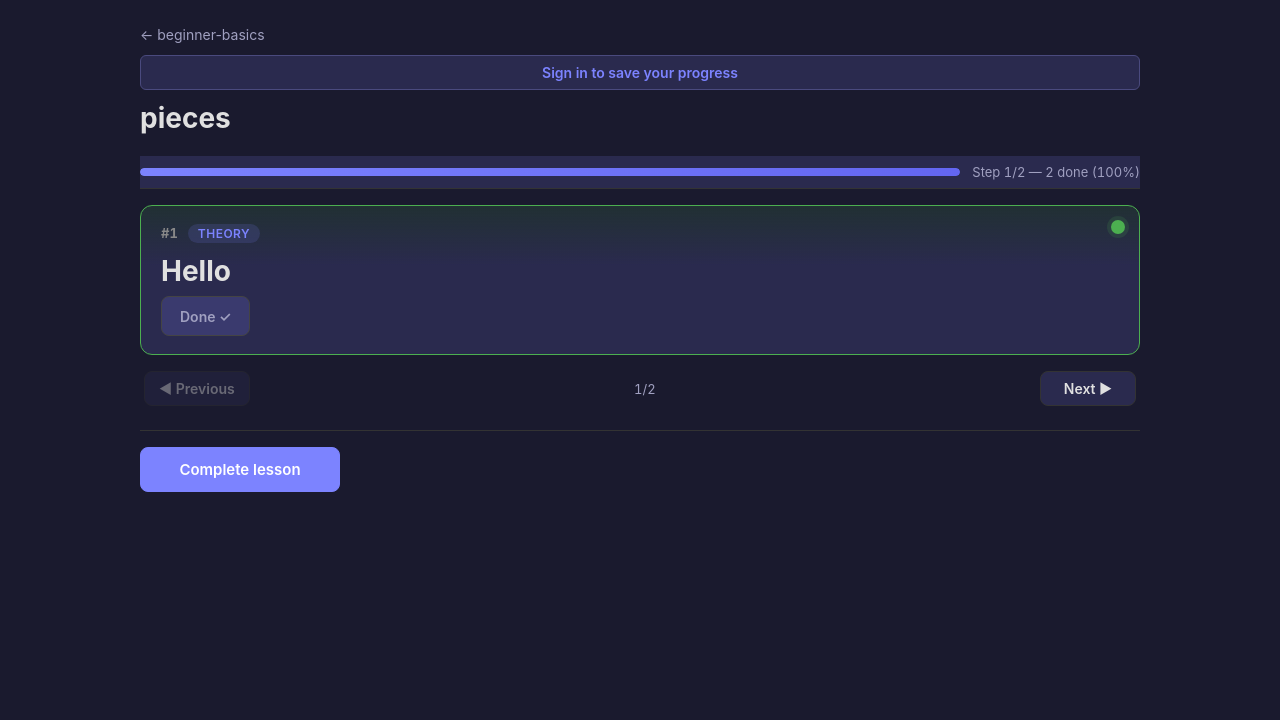
Test: LessonPage › KS-2057: после «Завершить урок» показывается экран успеха с галочкой, заголовком и кнопками
The width and height of the screenshot is (1280, 720).
Click the button with test id "lesson-complete-btn": point(240, 470) [140,447,340,492]
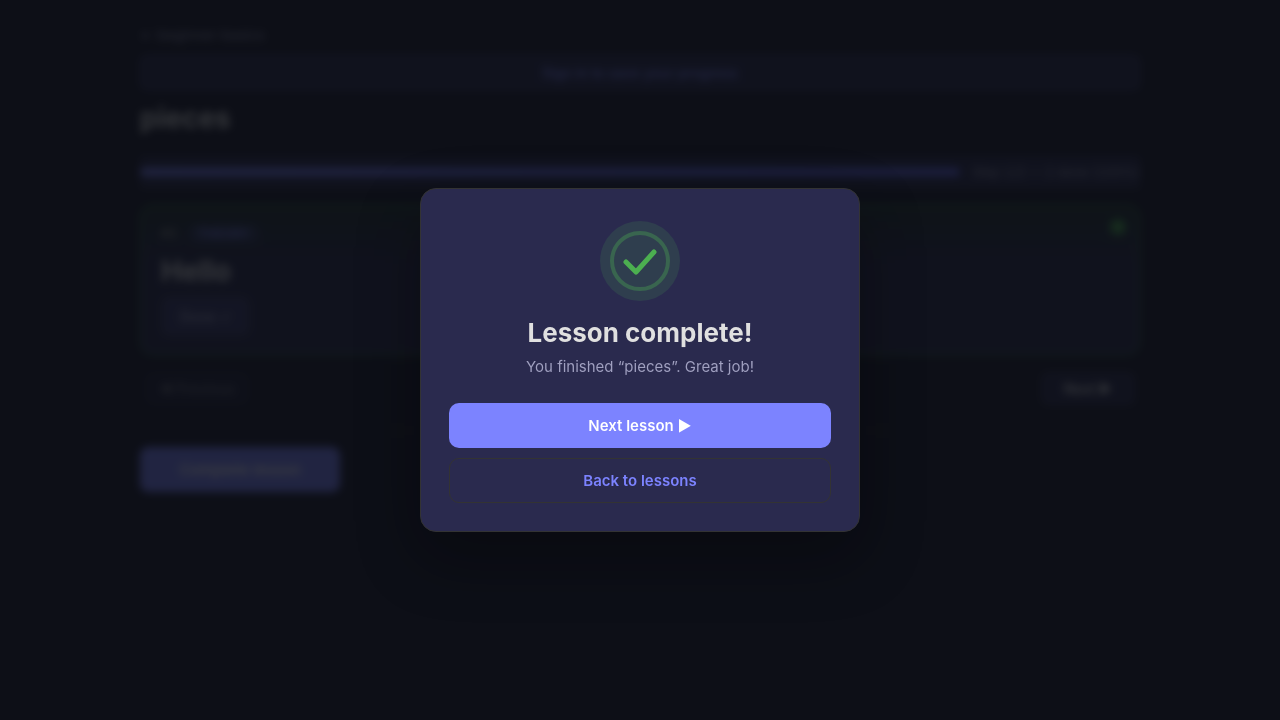
Expected: the dialog with test id "lesson-completion-overlay" is shown
Expected: the element with test id "lesson-completion-icon" is shown, [600,221,680,301]
Expected: the heading "Lesson complete!" is shown, [528,317,752,348]
